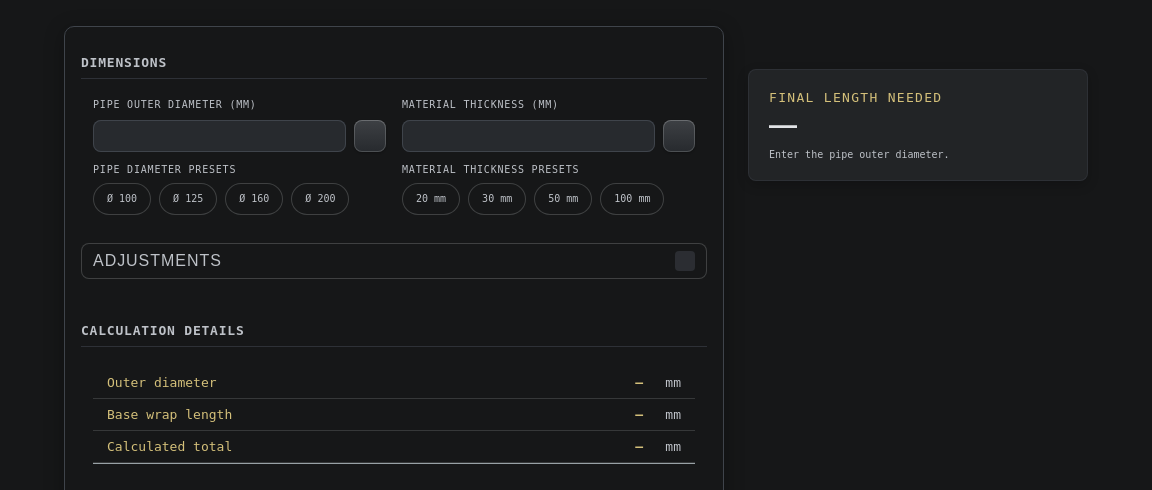
Test: the pipe wrap calculator › sets material thickness from its quick presets
The width and height of the screenshot is (1152, 490).
Click the button "50 mm" at (563,198), box left=534, top=182, right=592, bottom=214
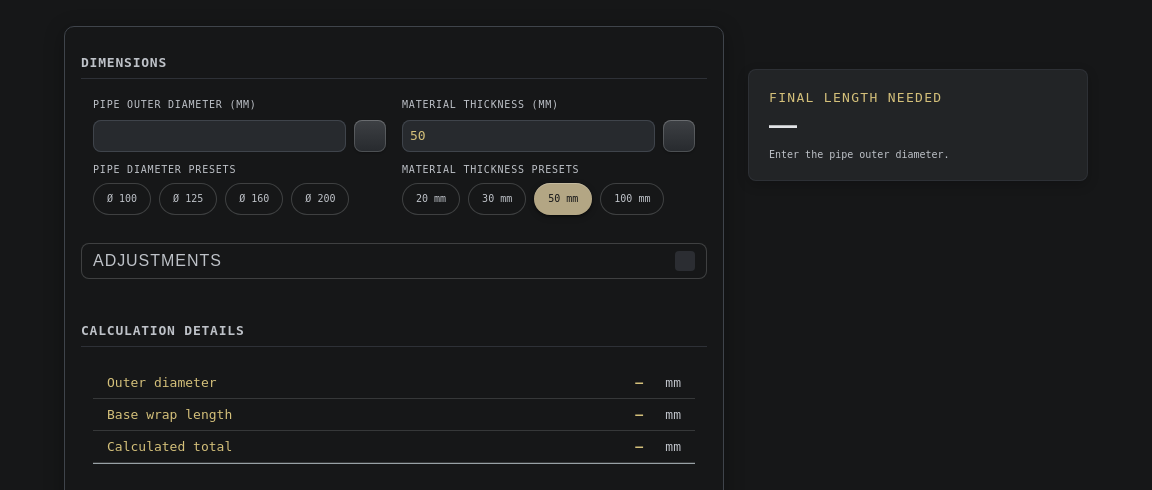
expect the field with id "input-matThick" holds "50": met, box left=402, top=120, right=655, bottom=152
